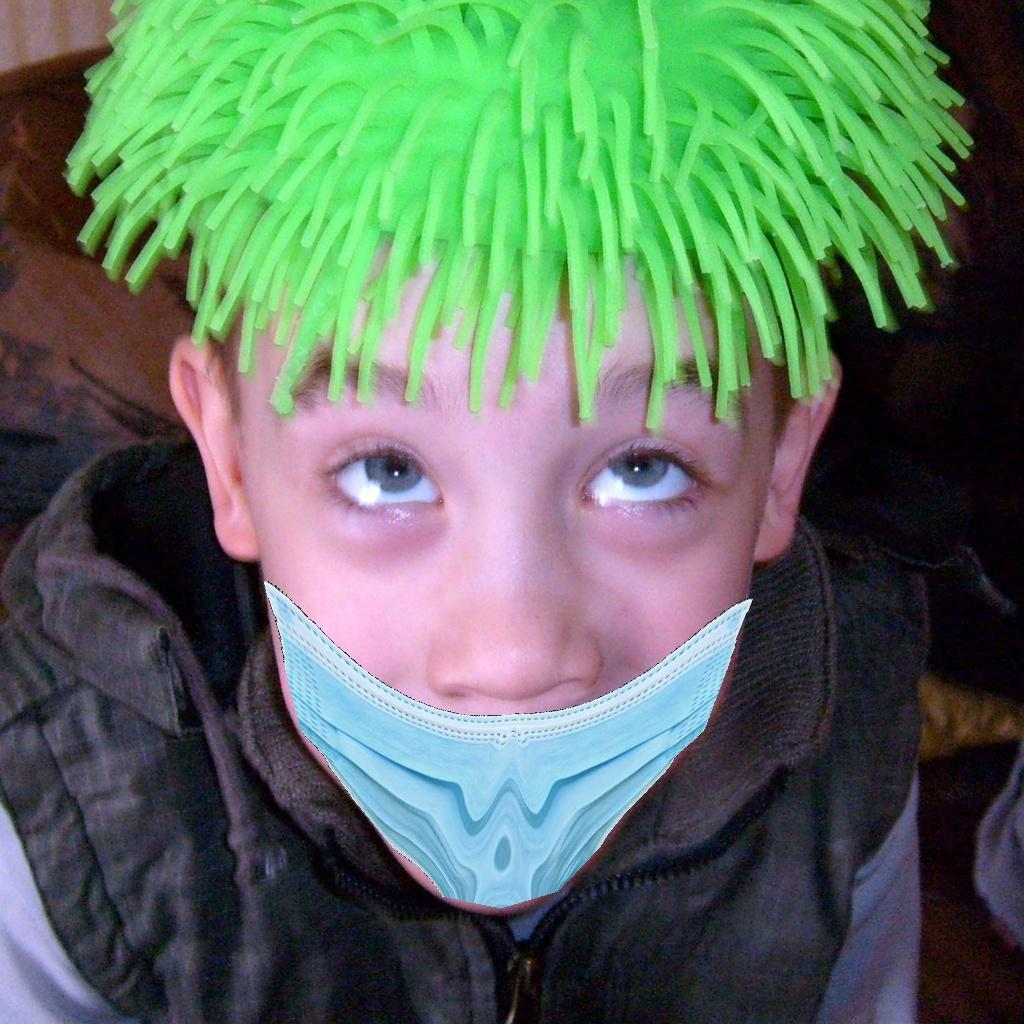Máscara Incorreta: (222, 270, 783, 907)
